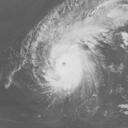cyclone: (22, 2, 101, 102)
